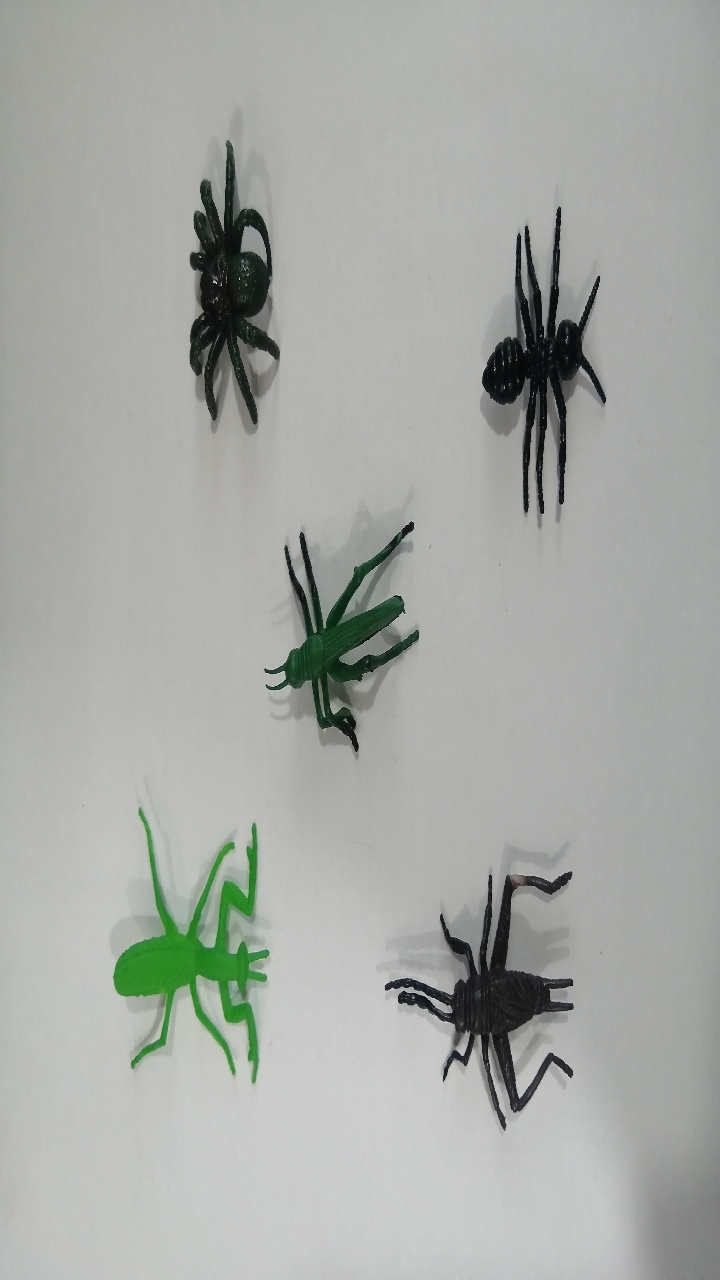intruso: (360, 839, 632, 1157), (61, 789, 308, 1097), (440, 182, 655, 528), (217, 488, 449, 768), (146, 134, 334, 448)
